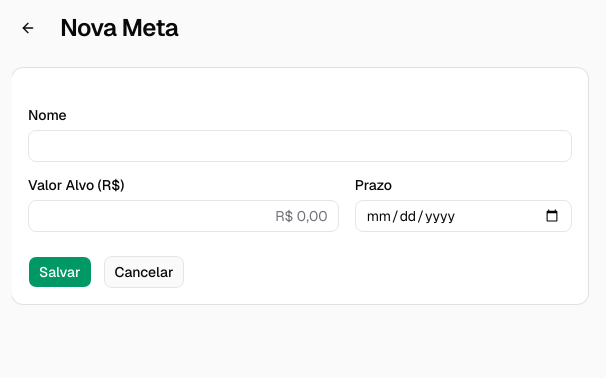
NovaMetaPage › exibe erro de validacao quando nome esta vazio
Click the button "Salvar" at (60, 272), box x1=28 y1=256 x2=92 y2=288
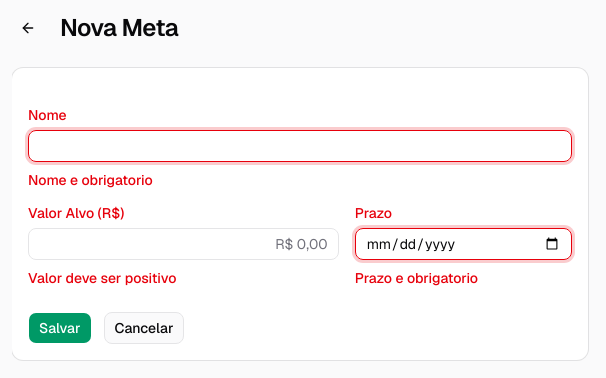
Expected: the text "Nome e obrigatorio" is shown, x1=28 y1=171 x2=153 y2=189
